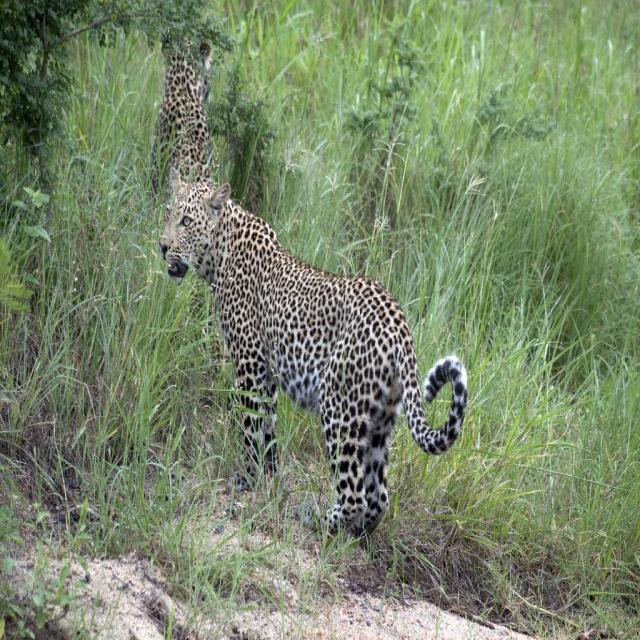Cheetah: (153, 158, 470, 538)
